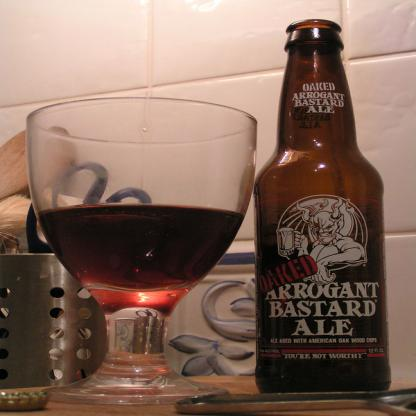drinking: (26, 96, 258, 406), (253, 19, 392, 398)
